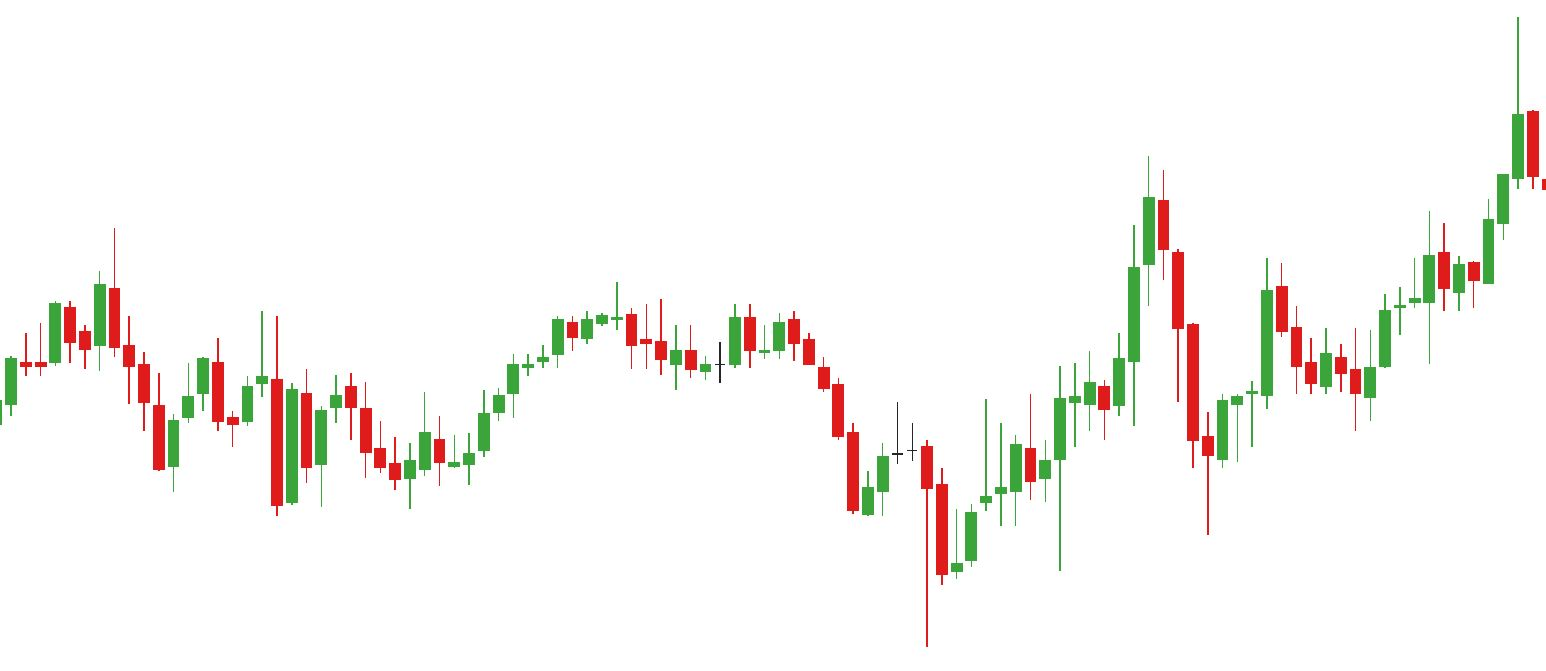buy: (1082, 317, 1232, 535), (165, 371, 300, 520)
